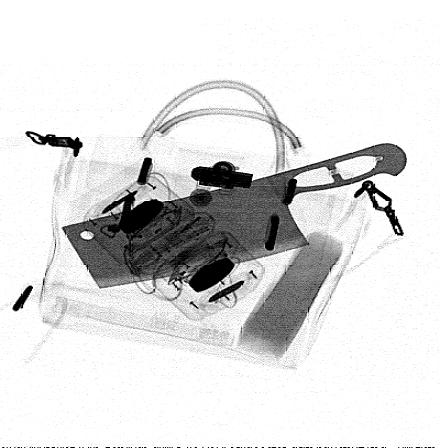Knife: (60, 142, 407, 290)
